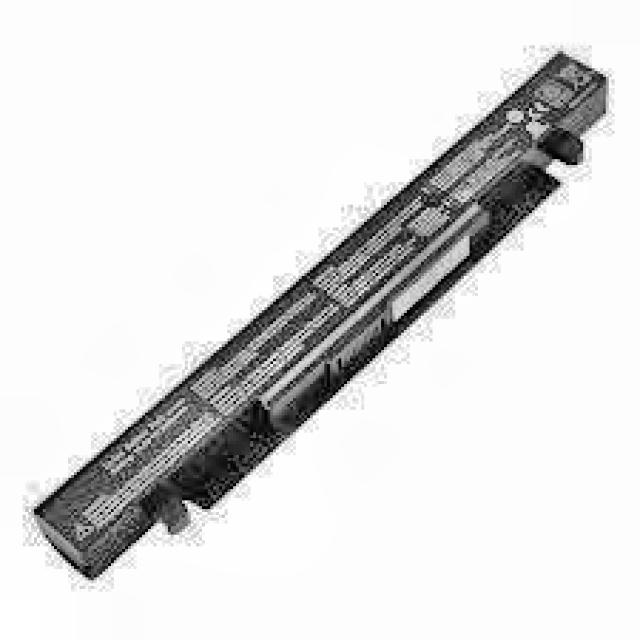Battery: (31, 54, 609, 575)
